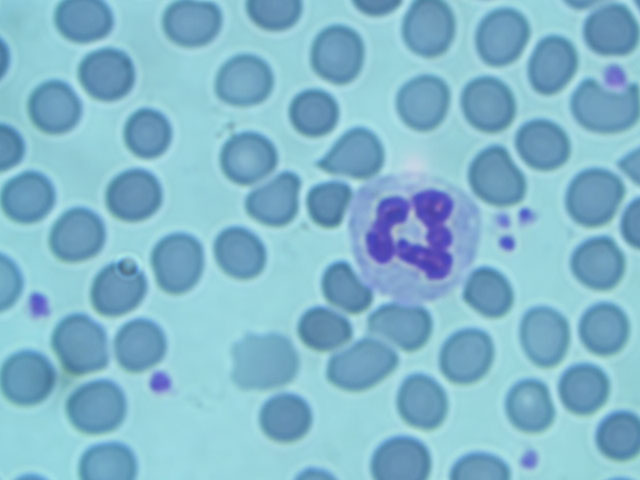Platelets: (493, 207, 536, 262), (594, 54, 634, 89), (20, 286, 54, 322), (144, 362, 176, 397), (518, 445, 543, 475)
RBC: (521, 36, 581, 95), (565, 168, 625, 226), (467, 148, 527, 206), (513, 116, 573, 174), (459, 73, 519, 131), (396, 75, 456, 133), (472, 7, 532, 65), (398, 1, 458, 58), (580, 1, 640, 58), (434, 330, 496, 385), (48, 207, 109, 262), (90, 261, 151, 316), (210, 226, 271, 281), (217, 132, 278, 187), (309, 26, 370, 81), (282, 84, 343, 139), (325, 123, 386, 178), (299, 175, 360, 230), (243, 172, 304, 227), (235, 330, 296, 385), (306, 260, 367, 315), (332, 338, 393, 393), (394, 372, 455, 427), (68, 378, 129, 433), (51, 318, 112, 373), (106, 318, 167, 373), (510, 308, 571, 363), (458, 265, 521, 318), (373, 296, 436, 349), (150, 233, 206, 292), (1, 168, 61, 223), (567, 237, 629, 290), (555, 361, 617, 414), (493, 378, 555, 431), (213, 53, 273, 107), (1, 350, 57, 405), (27, 79, 84, 133), (107, 167, 163, 221), (578, 300, 634, 354), (80, 49, 136, 100), (122, 105, 175, 157), (587, 409, 640, 461), (370, 433, 428, 480), (259, 392, 313, 442), (164, 1, 219, 49), (299, 301, 352, 350), (58, 1, 112, 48), (78, 440, 135, 480)
WBC: (353, 175, 477, 291)
